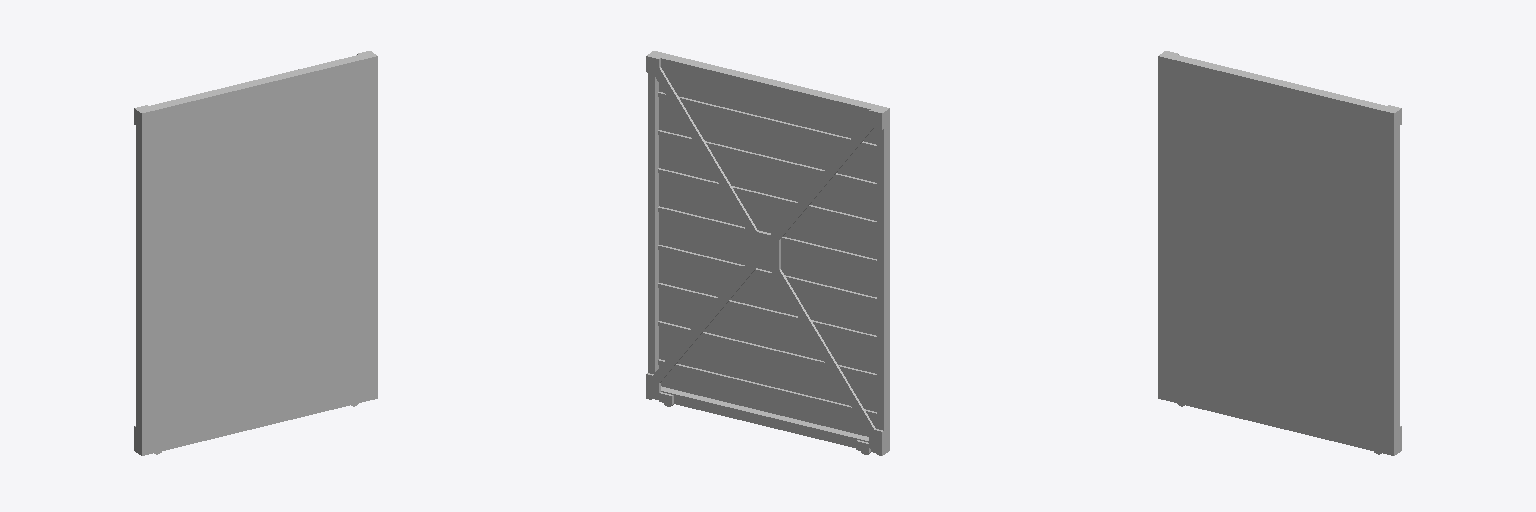
Rendered from f_door_l2.obj.
3 renders of one model, left to right at view 1: azimuth 30°, elevation 25°; view 2: azimuth 150°, elevation 25°; view 3: azimuth 330°, elevation 25°, orthographic.
Size of the model in its own units: 1067 by 1502 by 58.95.